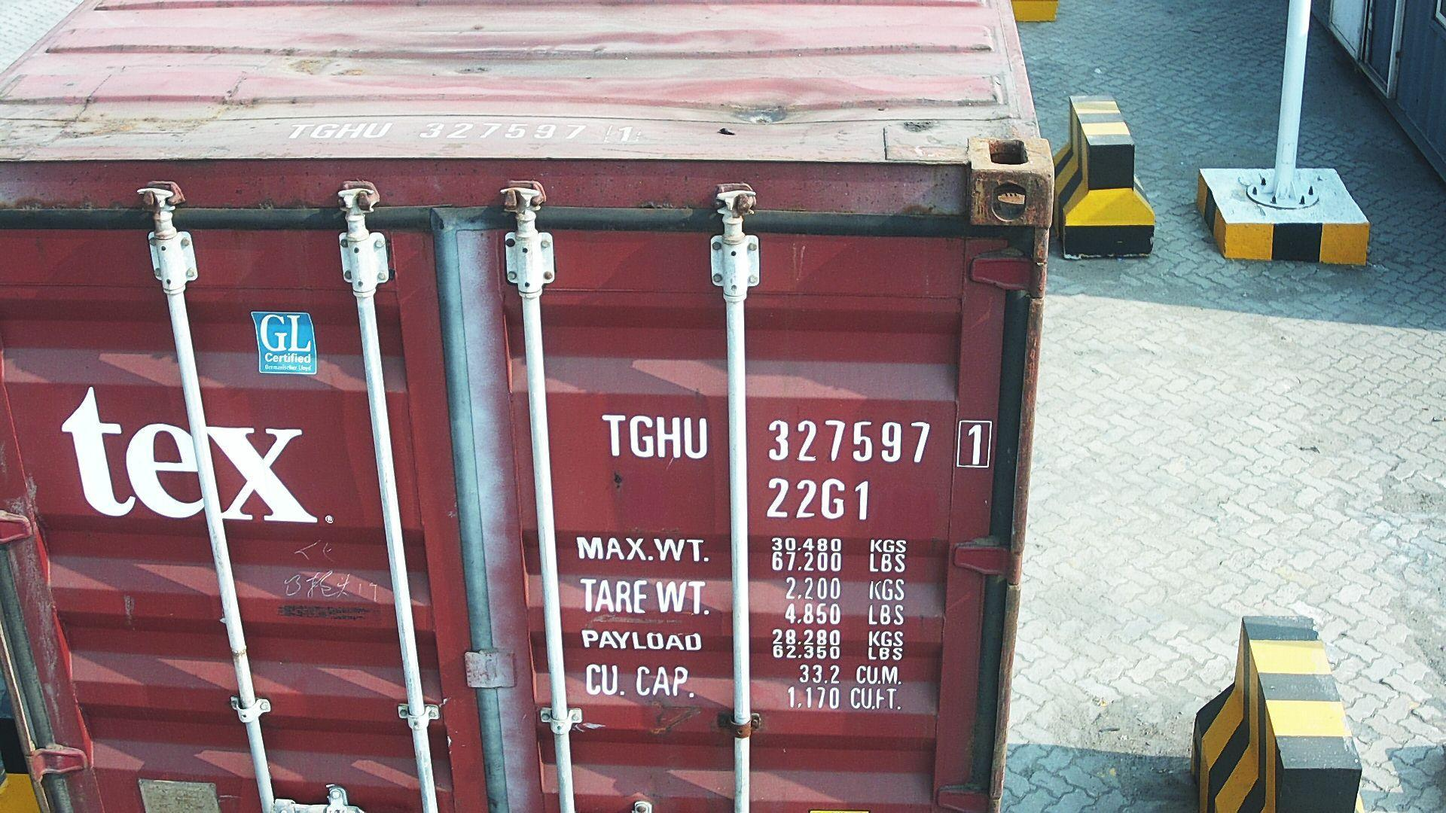container-numbers: (599, 411, 996, 471), (276, 116, 651, 148), (764, 475, 876, 524)
